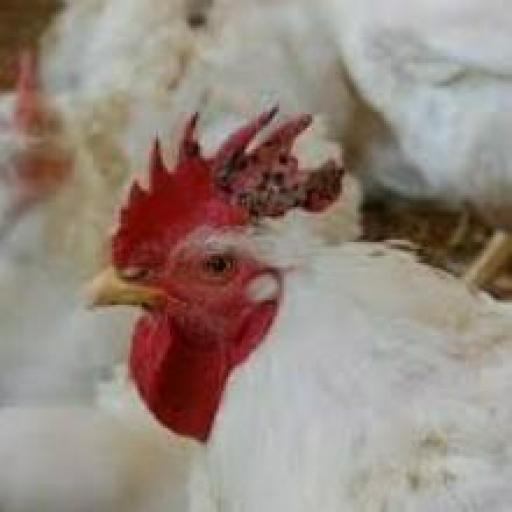disease: (205, 123, 342, 224), (169, 108, 216, 168)
